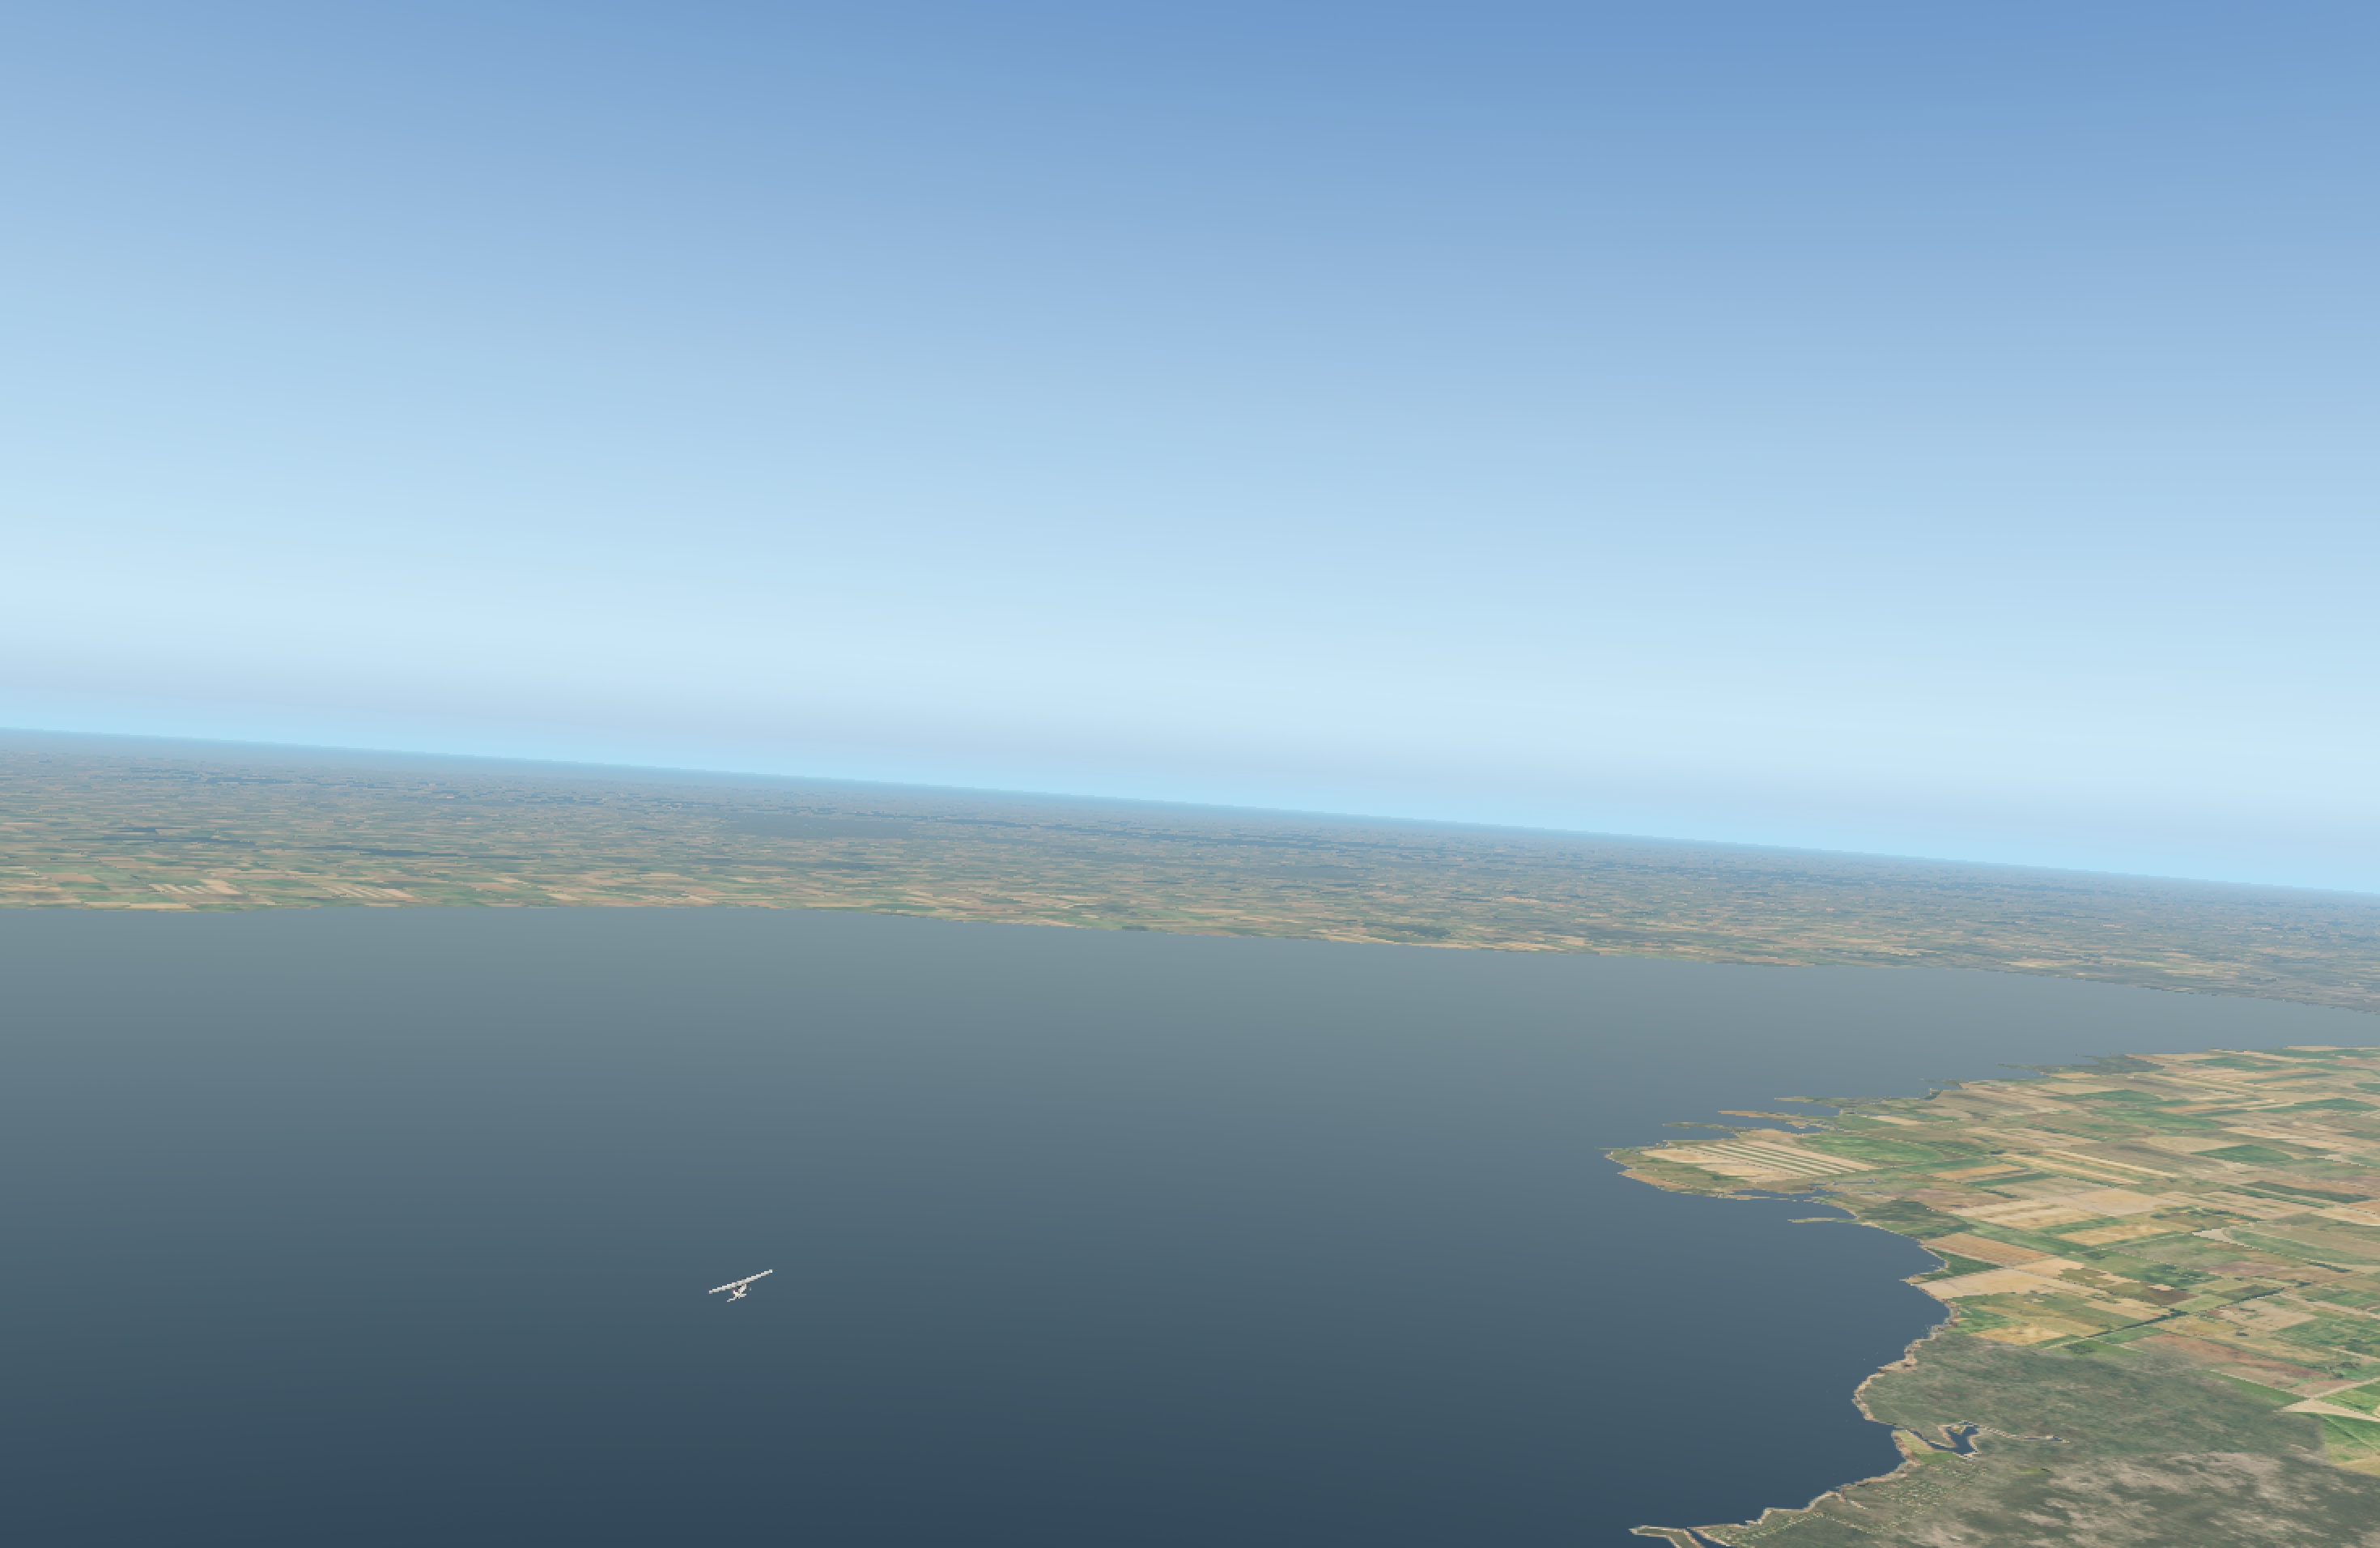aircraft: (718, 1276, 765, 1293)
